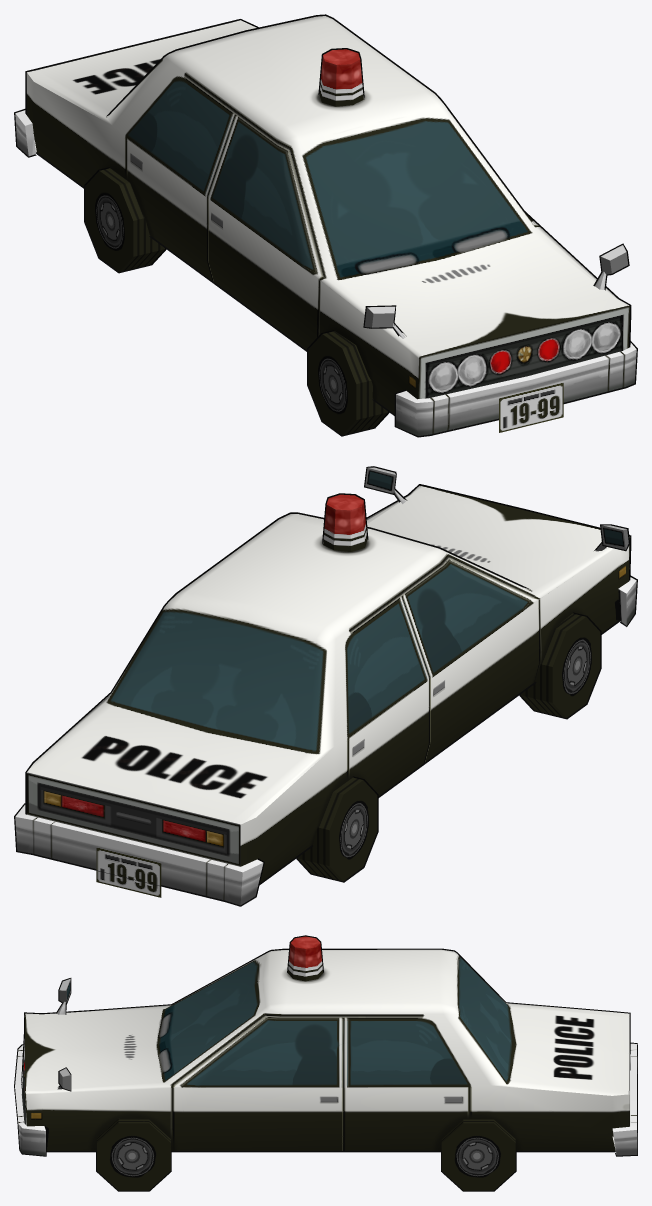
Rendered from retro_police_car.glb.
3 renders of one model, top to bottom at view 1: azimuth 30°, elevation 25°; view 2: azimuth 150°, elevation 25°; view 3: azimuth 270°, elevation 25°, orthographic. The views are drawn at different scales.
Parts seen in each view (by area): view 1: 1970 Toyota Crown_0, 1970 Toyota Crown wheel_5, 1970 Toyota Crown Bumpers_2, 1970 Toyota Crown Siren_4, 1970 Toyota Crown Front Plate_3, 1970 Toyota Crown Wheels_6; view 2: 1970 Toyota Crown_0, 1970 Toyota Crown wheel_5, 1970 Toyota Crown Bumpers_2, 1970 Toyota Crown Siren_4, 1970 Toyota Crown Back Plate_1, 1970 Toyota Crown Wheels_6; view 3: 1970 Toyota Crown_0, 1970 Toyota Crown wheel_5, 1970 Toyota Crown Bumpers_2, 1970 Toyota Crown Siren_4, 1970 Toyota Crown Wheels_6.
Part boxes in pixels (<box>): 1970 Toyota Crown_0: <box>25,14,631,415</box>; 1970 Toyota Crown wheel_5: <box>84,167,389,436</box>; 1970 Toyota Crown Bumpers_2: <box>14,109,637,437</box>; 1970 Toyota Crown Siren_4: <box>318,48,364,106</box>; 1970 Toyota Crown Front Plate_3: <box>499,382,563,432</box>; 1970 Toyota Crown Wheels_6: <box>363,243,629,338</box>; 1970 Toyota Crown_0: <box>25,484,631,885</box>; 1970 Toyota Crown wheel_5: <box>296,612,601,882</box>; 1970 Toyota Crown Bumpers_2: <box>14,575,637,906</box>; 1970 Toyota Crown Siren_4: <box>322,493,368,551</box>; 1970 Toyota Crown Back Plate_1: <box>96,847,161,897</box>; 1970 Toyota Crown Wheels_6: <box>364,466,630,551</box>; 1970 Toyota Crown_0: <box>21,948,630,1152</box>; 1970 Toyota Crown wheel_5: <box>96,1118,516,1191</box>; 1970 Toyota Crown Bumpers_2: <box>14,1042,637,1156</box>; 1970 Toyota Crown Siren_4: <box>287,935,323,981</box>; 1970 Toyota Crown Wheels_6: <box>56,978,71,1091</box>.
Bounding box in the file's own units: 1.91 × 1.83 × 5.1.
3 materials, 3 textured.
